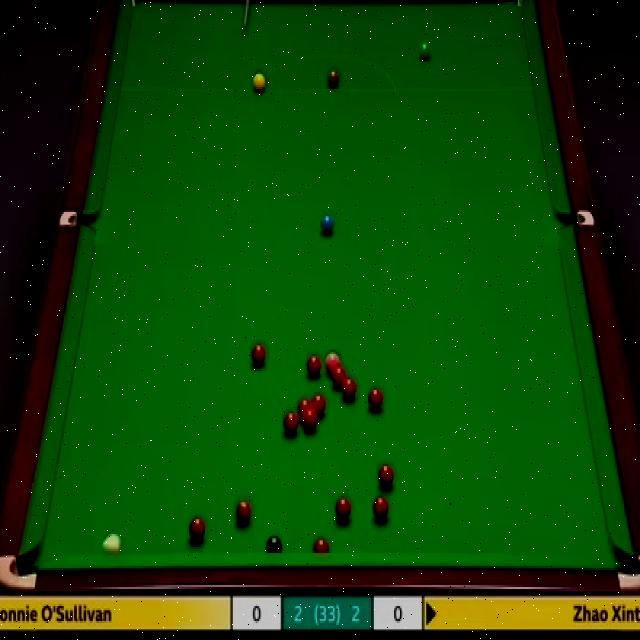black-ball: (265, 533, 283, 553)
blue-ball: (320, 215, 335, 233)
brown-ball: (327, 70, 341, 93)
green-ball: (418, 40, 432, 56)
pink-ball: (325, 352, 340, 372)
red-ball: (187, 516, 206, 542), (310, 394, 328, 421), (378, 462, 394, 492), (335, 493, 351, 523), (282, 412, 299, 436), (235, 499, 252, 523), (374, 497, 389, 520), (303, 410, 318, 432), (252, 343, 265, 368), (312, 538, 330, 555), (332, 365, 346, 386), (342, 380, 355, 402), (368, 389, 383, 408), (306, 355, 320, 375), (298, 400, 312, 420)
white-ball: (100, 534, 122, 553)
yellow-ball: (252, 72, 266, 94)
